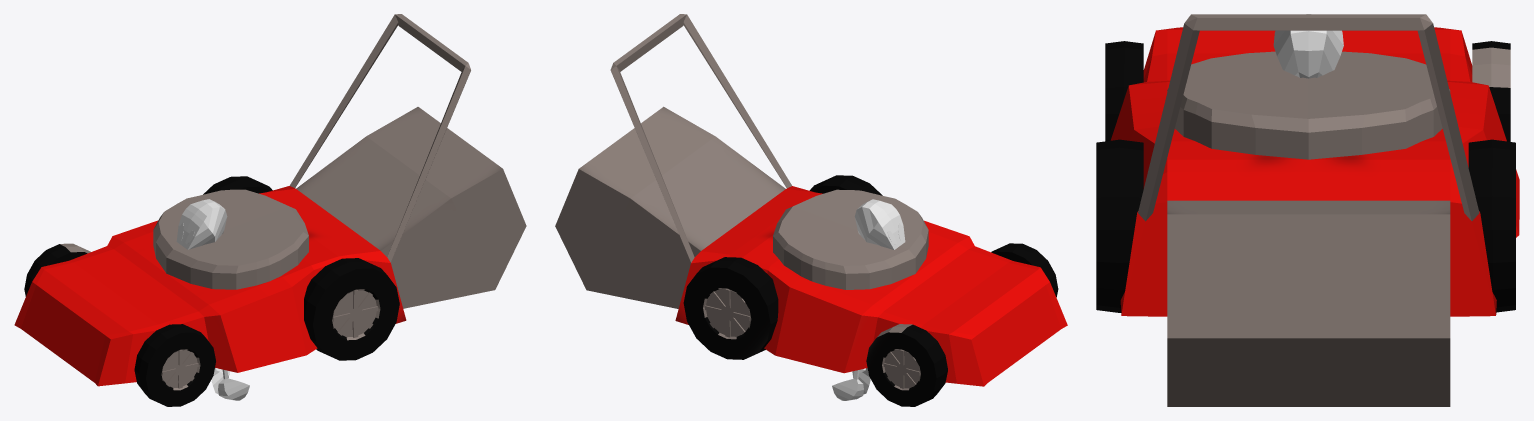
File: Lawnmower.fbx
3 renders of one model, left to right at view 1: azimuth 30°, elevation 25°; view 2: azimuth 150°, elevation 25°; view 3: azimuth 270°, elevation 25°, orthographic. The views are drawn at different scales.
Visible parts, largest first — view 1: MowerBody, Wheel.001, Wheel, Plane, Wheel.003, Wheel.002; view 2: MowerBody, Wheel.002, Wheel.003, Plane, Wheel, Wheel.001; view 3: MowerBody, Wheel.001, Wheel.002, Plane, Wheel, Wheel.003.
Part boxes in pixels (x1,y1,x2,y2): MowerBody: (14, 14, 526, 386); Wheel.001: (304, 258, 399, 360); Wheel: (134, 324, 215, 406); Plane: (176, 199, 249, 400); Wheel.003: (24, 243, 90, 296); Wheel.002: (203, 176, 272, 194); MowerBody: (555, 14, 1067, 386); Wheel.002: (683, 257, 778, 359); Wheel.003: (866, 324, 947, 406); Plane: (832, 199, 905, 400); Wheel: (991, 243, 1058, 297); Wheel.001: (809, 175, 882, 195); MowerBody: (1110, 14, 1519, 406); Wheel.001: (1096, 139, 1143, 312); Wheel.002: (1468, 139, 1515, 312); Plane: (1273, 14, 1343, 78); Wheel: (1105, 41, 1143, 141); Wheel.003: (1472, 41, 1510, 141).
Bounding box in the file's own units: 6.05 × 4.17 × 3.11.
Materials: 1 (1 with a texture image).
